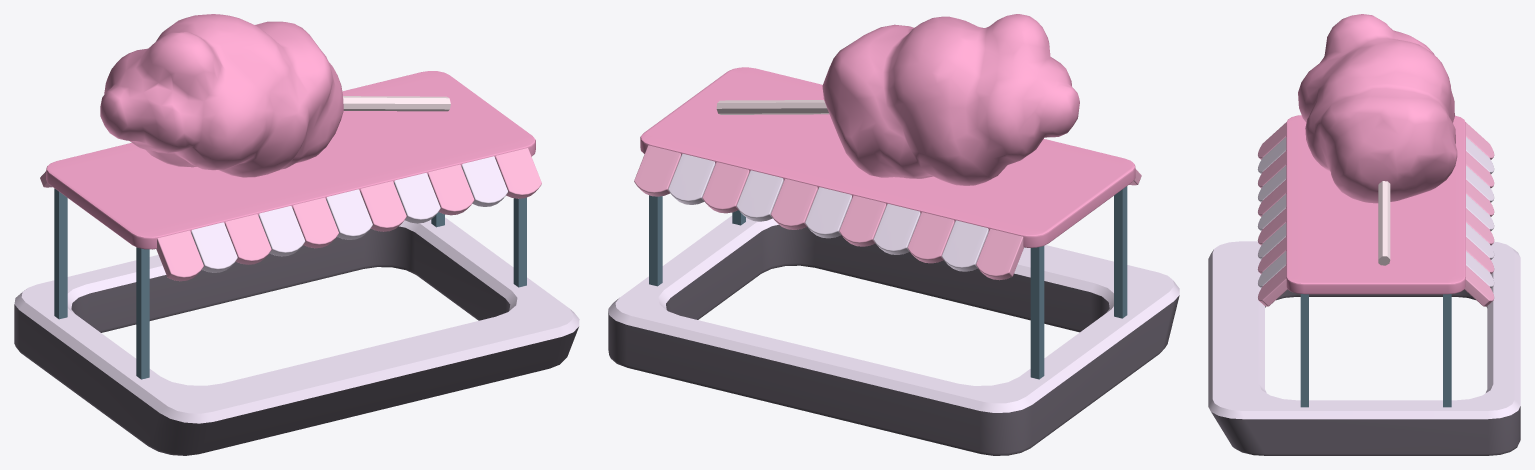
The model's file is Cotan_Candy_Stall_M2.fbx.
3 renders of one model, left to right at view 1: azimuth 30°, elevation 25°; view 2: azimuth 150°, elevation 25°; view 3: azimuth 270°, elevation 25°, orthographic. The views are drawn at different scales.
Visible parts, largest first — view 1: Stall_M2, Coton_Candy_M; view 2: Stall_M2, Coton_Candy_M; view 3: Stall_M2, Coton_Candy_M.
Part boxes in pixels (box(x1,y1,x2,y2)): Stall_M2: box(14, 71, 579, 455); Coton_Candy_M: box(100, 14, 450, 177); Stall_M2: box(608, 67, 1179, 455); Coton_Candy_M: box(716, 14, 1079, 185); Stall_M2: box(1208, 115, 1520, 455); Coton_Candy_M: box(1298, 14, 1457, 265).
Bounding box in the file's own units: 5.81 × 4.71 × 4.39.
1 material, 1 textured.
